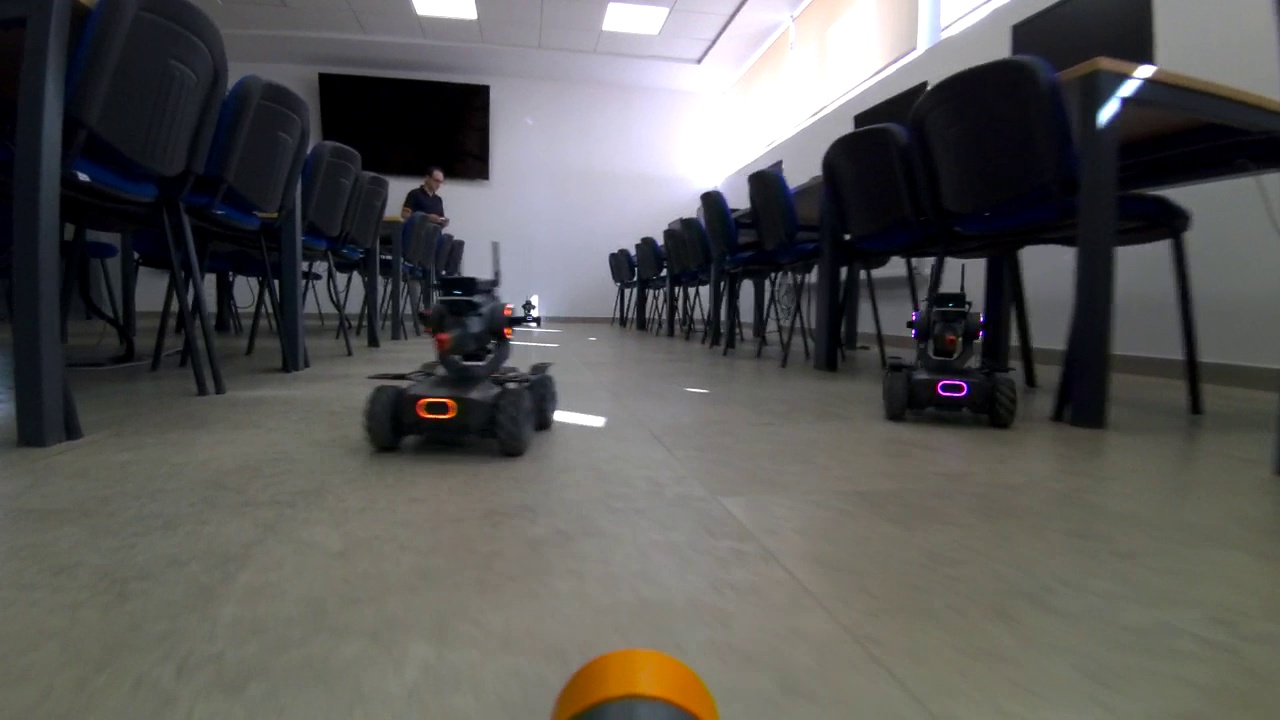robot: (361, 277, 566, 459), (873, 292, 1021, 434)
